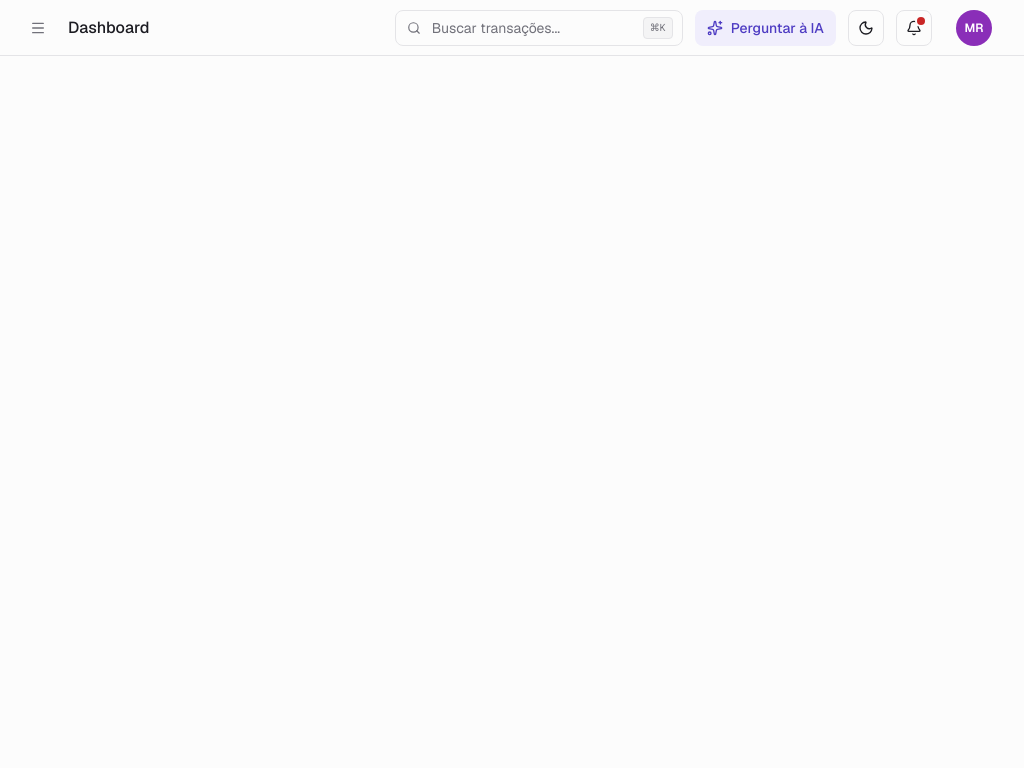
Test: Topbar › opens command search from the search input
Click the search field labelled "Buscar transações...": (539, 28) 395,10 -> 683,46
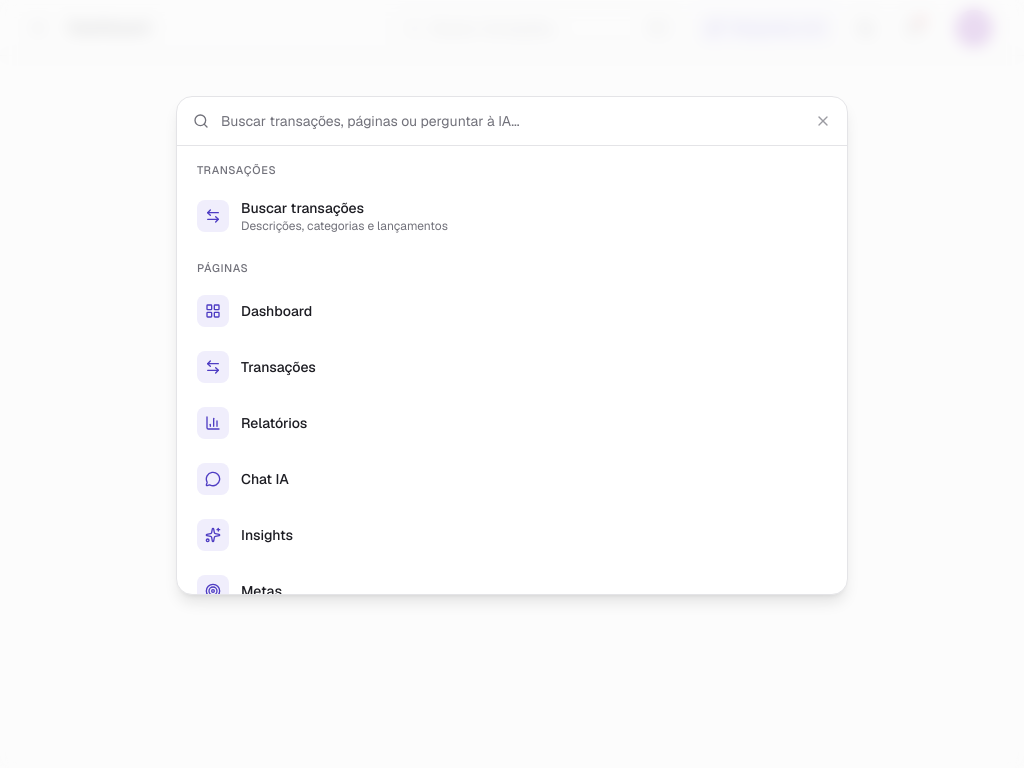
Now the dialog named "Busca de comandos" is shown, box 176,96 -> 848,595
